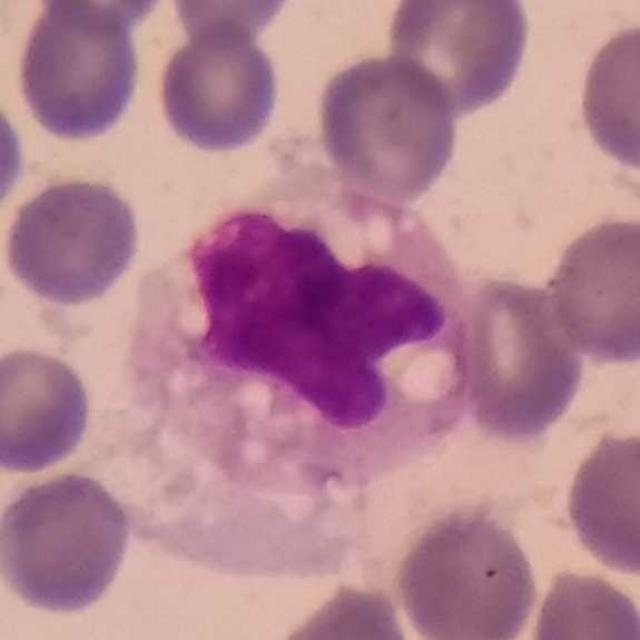mono: (103, 138, 492, 496)
